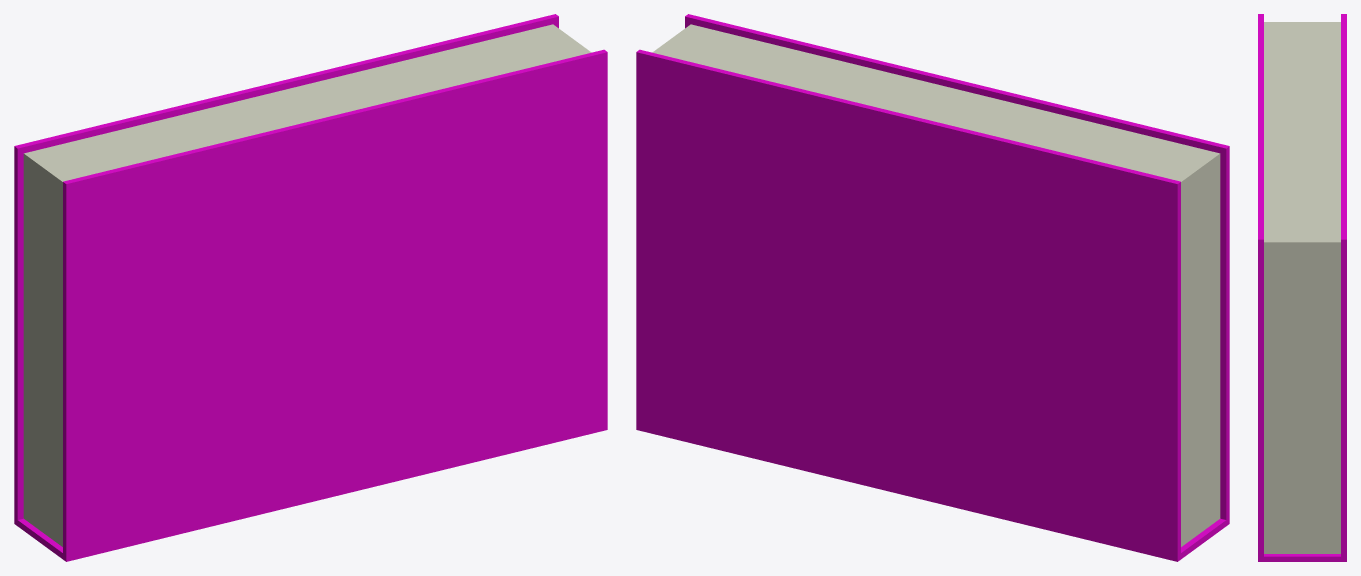
The model's file is purplebook.fbx.
3 views of the same model, side by side, from view 1: azimuth 30°, elevation 25°; view 2: azimuth 150°, elevation 25°; view 3: azimuth 270°, elevation 25° (orthographic). The views are drawn at different scales.
Visible parts, largest first — view 1: bok1; view 2: bok1; view 3: bok1.
Boxes of the visible parts, box(x1,y1,x2,y2) form: bok1: box(14, 14, 607, 561); bok1: box(636, 14, 1229, 561); bok1: box(1258, 14, 1346, 561).
Bounding box in the file's own units: 18000 × 12000 × 3000.
